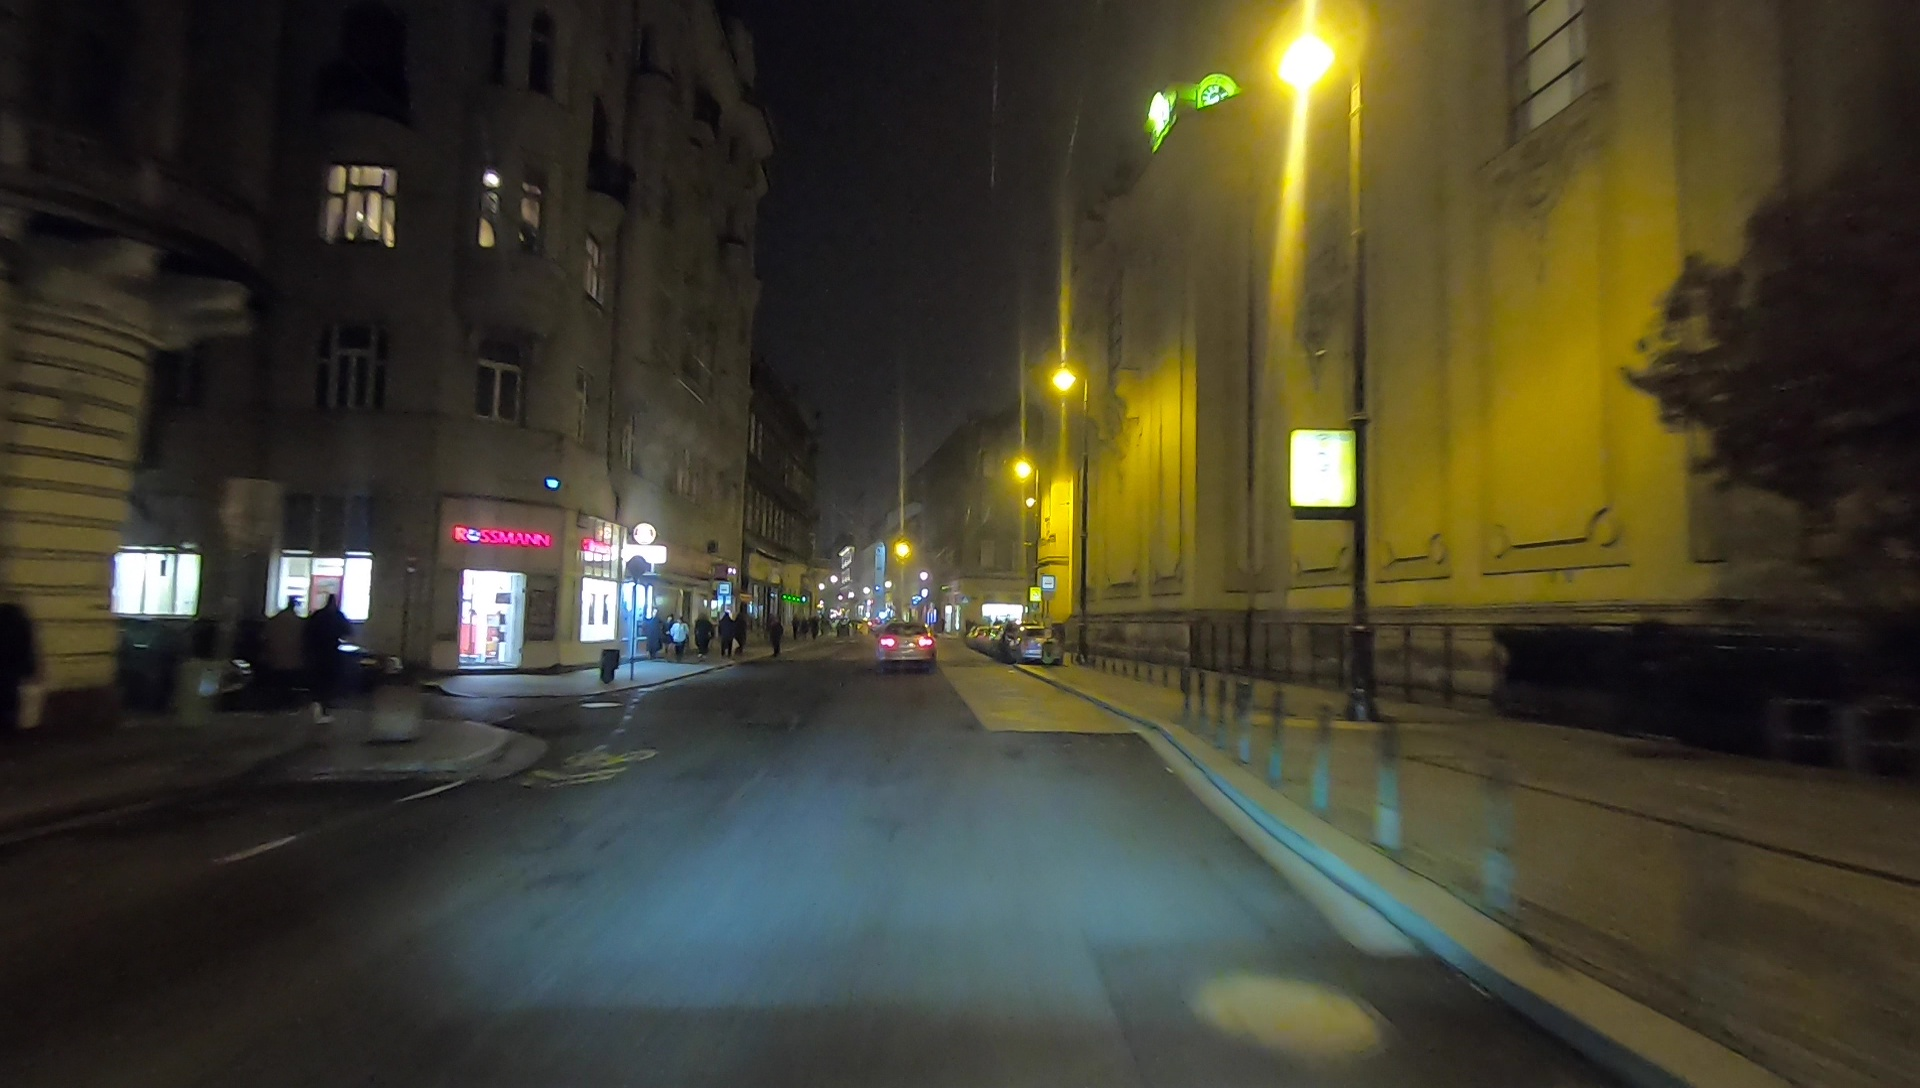person: (267, 597, 308, 723), (314, 593, 351, 717), (643, 608, 663, 658), (694, 612, 712, 656), (768, 618, 782, 661), (671, 618, 687, 656), (719, 611, 732, 654), (733, 614, 746, 655)
